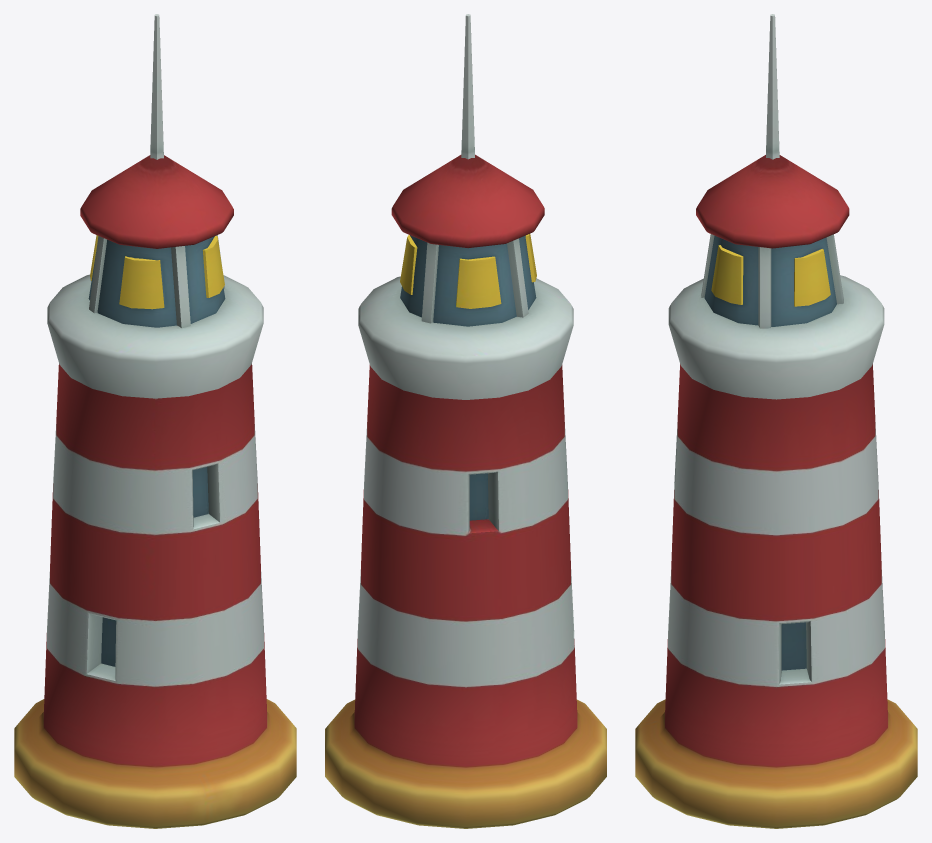
The picture shows the model from 3 angles, left to right: view 1: azimuth 30°, elevation 25°; view 2: azimuth 150°, elevation 25°; view 3: azimuth 270°, elevation 25°; orthographic projection.
Visible parts, largest first — view 1: Ta; view 2: Ta; view 3: Ta.
Part boxes in pixels (<box>): Ta: <box>14,14,296,828</box>; Ta: <box>325,14,606,828</box>; Ta: <box>635,14,917,828</box>.
Size of the model in its own units: 925 by 2690 by 911.
